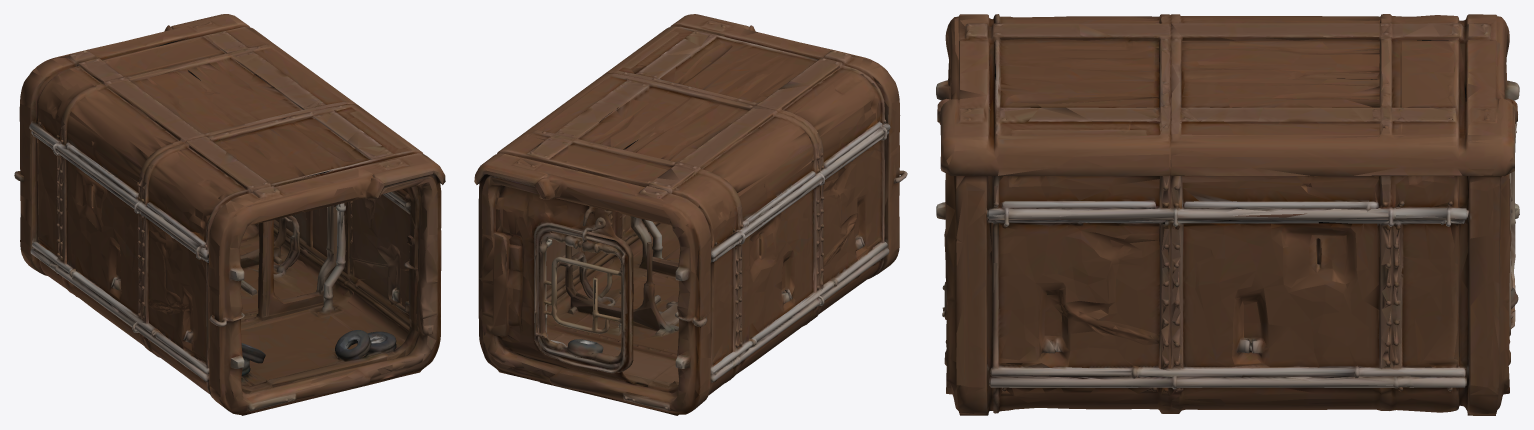
The model's file is tripo_convert_d9582b6d-9338-4310-9095-e5accde6ad5b.fbx.
The picture shows the model from 3 angles, left to right: view 1: azimuth 30°, elevation 25°; view 2: azimuth 150°, elevation 25°; view 3: azimuth 270°, elevation 25°; orthographic projection. The views are drawn at different scales.
Visible parts, largest first — view 1: tripo_node_d9582b6d; view 2: tripo_node_d9582b6d; view 3: tripo_node_d9582b6d.
Boxes of the visible parts, <box> form: tripo_node_d9582b6d: <box>14,14,445,415</box>; tripo_node_d9582b6d: <box>474,14,907,415</box>; tripo_node_d9582b6d: <box>936,14,1519,415</box>.
Bounding box in the file's own units: 61.33 × 98.25 × 54.03.
1 material, 1 textured.
